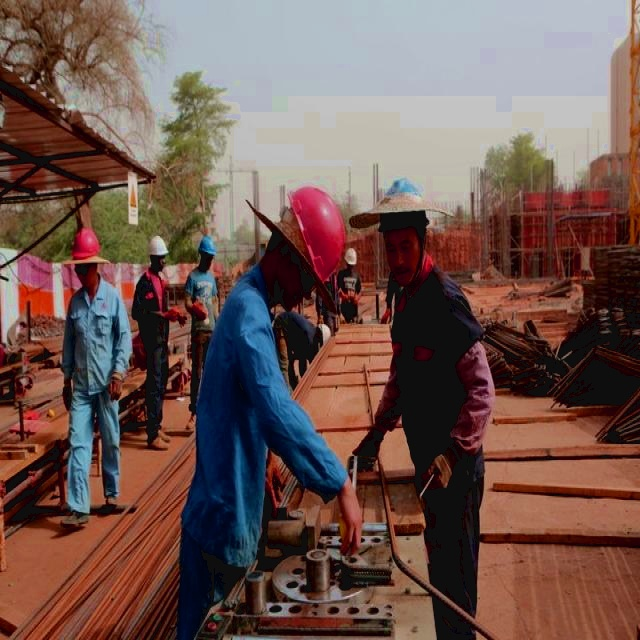Sin_Casco_Mascarrilla: (350, 179, 453, 269)
Sin_Chaleco: (199, 290, 278, 544), (388, 278, 480, 478)
